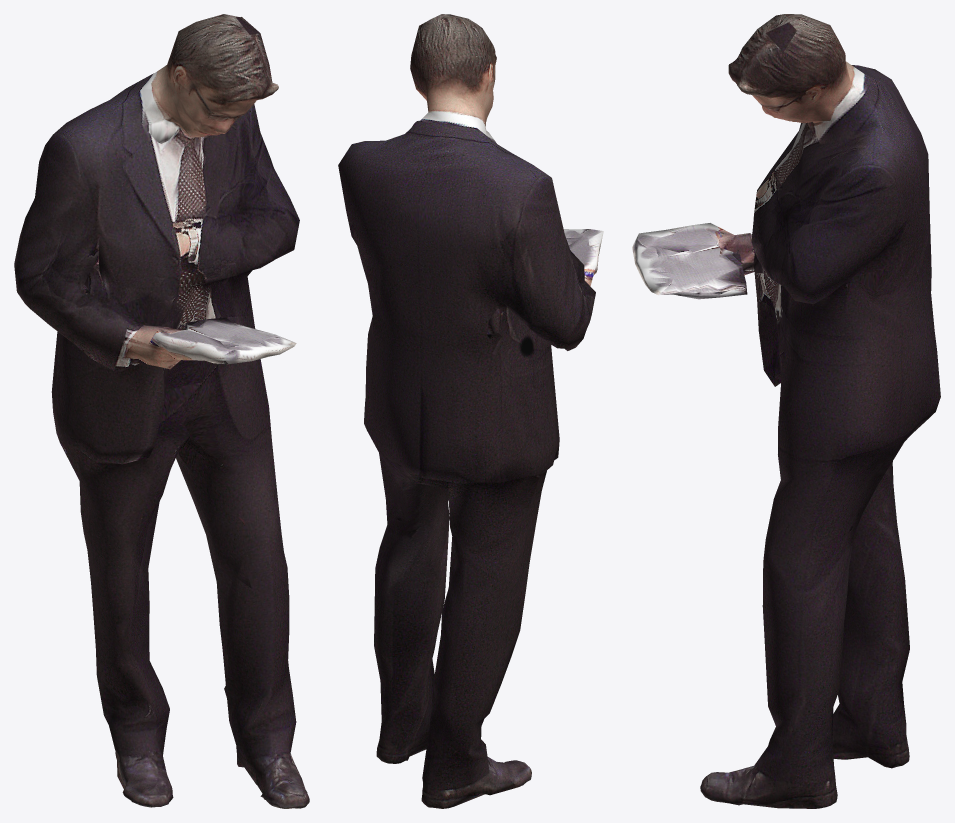
File: Person_11.obj
3 views of the same model, side by side, from view 1: azimuth 30°, elevation 25°; view 2: azimuth 150°, elevation 25°; view 3: azimuth 270°, elevation 25° (orthographic). The views are drawn at different scales.
Visible parts, largest first — view 1: Person_11; view 2: Person_11; view 3: Person_11.
Part boxes in pixels (x1=…): Person_11: x1=14, y1=14, x2=309, y2=808; Person_11: x1=338, y1=14, x2=603, y2=808; Person_11: x1=632, y1=14, x2=940, y2=808.
Size of the model in its own units: 0.6151 by 1.79 by 0.6572.
Materials: 1 (1 with a texture image).
